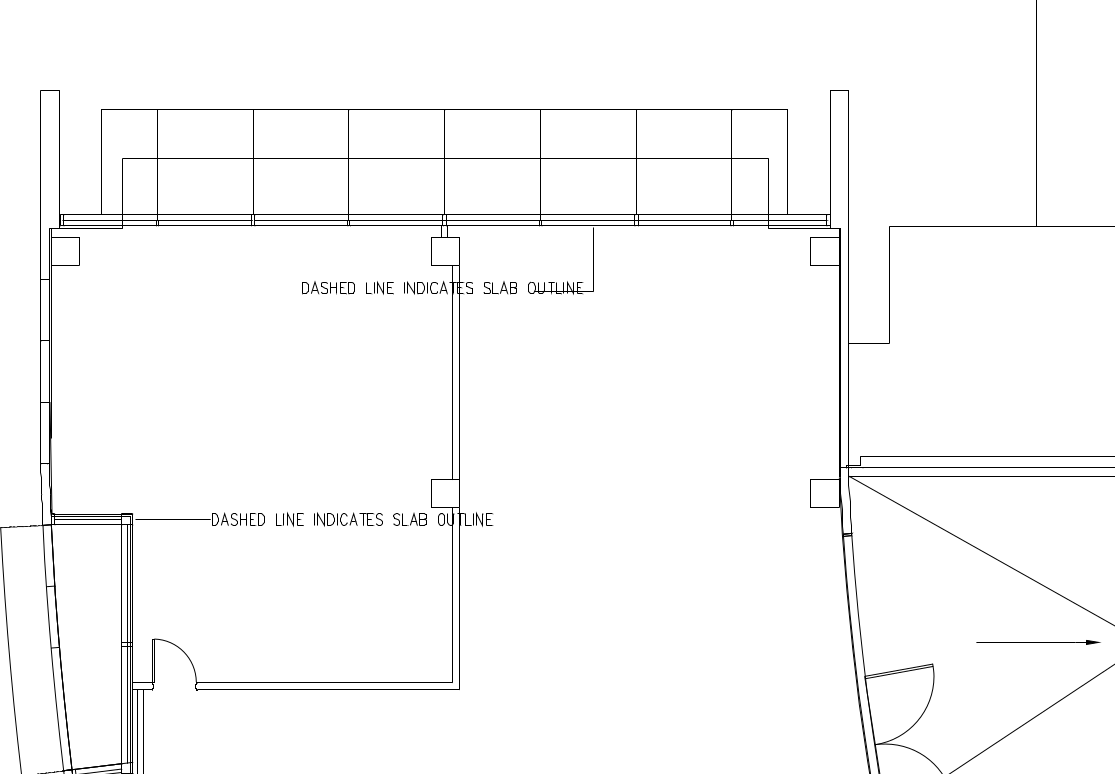door: (854, 652, 945, 751), (146, 632, 200, 690)
